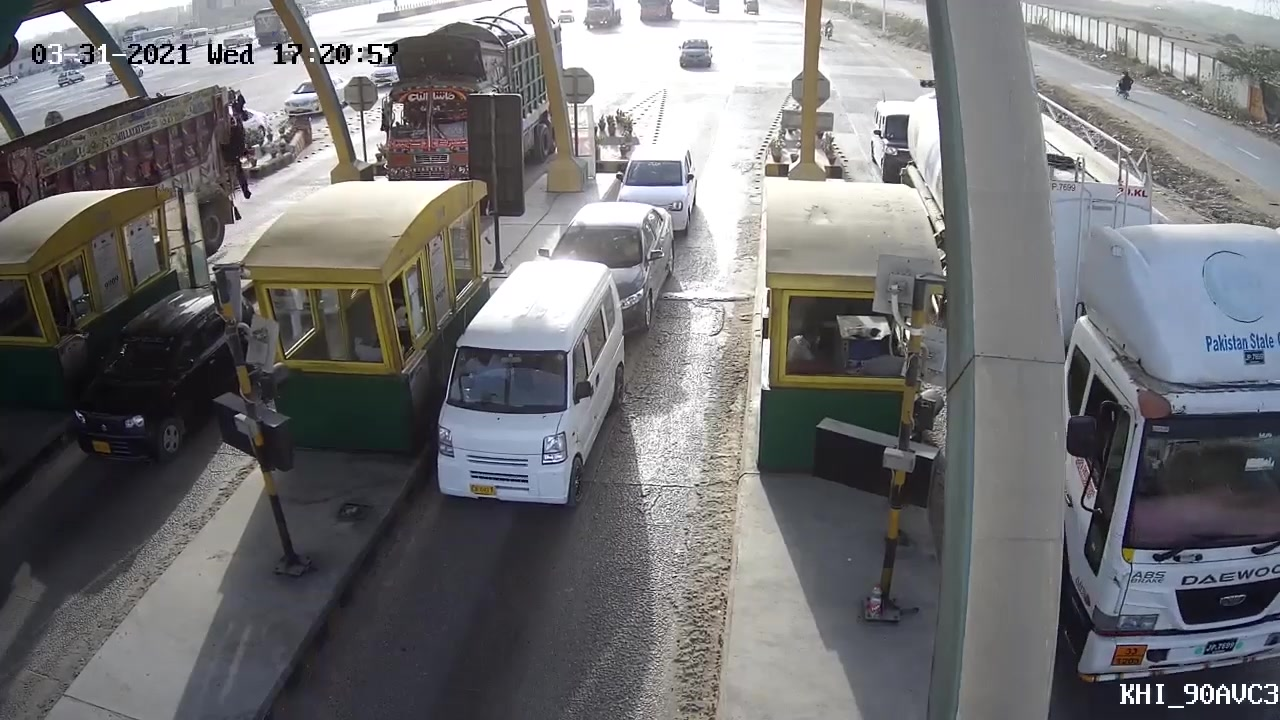F1: (412, 253, 621, 511)
